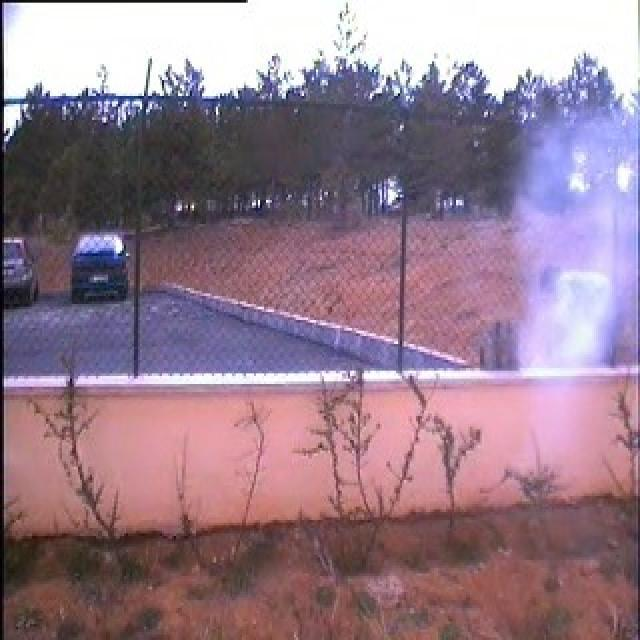Smoke: (514, 110, 640, 369)
